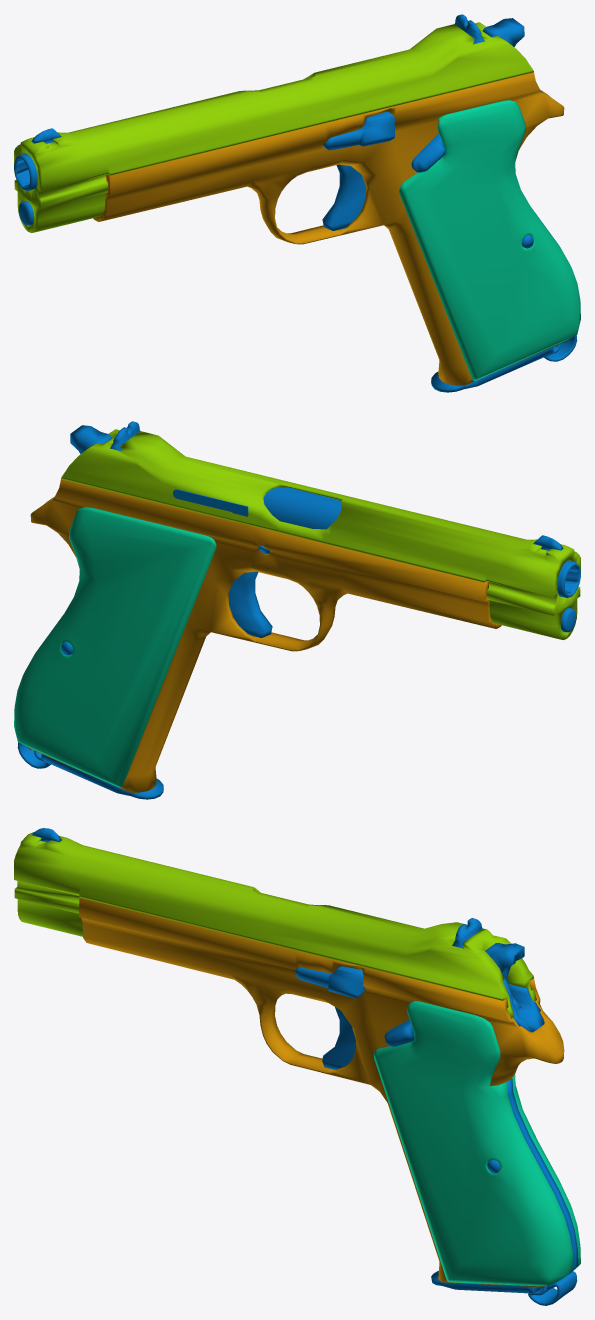
Rendered from SIGp210.fbx.
The picture shows the model from 3 angles, top to bottom: view 1: azimuth 30°, elevation 25°; view 2: azimuth 150°, elevation 25°; view 3: azimuth 330°, elevation 25°; orthographic projection.
Parts seen in each view (by area): view 1: grip, slider, body, triger, safeSlider, magazin, safe, sights, hammer, barrel; view 2: grip, slider, body, bulletBed, triger, magazin, ejector, sights, barrel, hammer; view 3: grip, slider, body, safeSlider, gripMetal, triger, hammerBody, hammer, magazinSpring, magazin, sights.
Boxes of the visible parts, left/top/right/bottom form: grip: left=399, top=100, right=580, bottom=380; slider: left=14, top=22, right=533, bottom=232; body: left=93, top=72, right=565, bottom=385; triger: left=322, top=164, right=366, bottom=230; safeSlider: left=323, top=112, right=395, bottom=150; magazin: left=431, top=347, right=553, bottom=392; safe: left=411, top=133, right=445, bottom=172; sights: left=31, top=14, right=484, bottom=143; hammer: left=483, top=18, right=524, bottom=46; barrel: left=14, top=153, right=37, bottom=190; grip: left=14, top=507, right=216, bottom=787; slider: left=61, top=429, right=580, bottom=639; body: left=29, top=479, right=501, bottom=792; bulletBed: left=263, top=487, right=341, bottom=529; triger: left=228, top=571, right=272, bottom=637; magazin: left=41, top=754, right=163, bottom=799; ejector: left=173, top=489, right=248, bottom=516; sights: left=110, top=421, right=563, bottom=550; barrel: left=557, top=560, right=580, bottom=597; hammer: left=70, top=425, right=111, bottom=453; grip: left=373, top=1001, right=580, bottom=1286; slider: left=14, top=832, right=536, bottom=1018; body: left=79, top=897, right=564, bottom=1287; safeSlider: left=295, top=966, right=364, bottom=998; gripMetal: left=506, top=1078, right=578, bottom=1273; triger: left=322, top=1007, right=355, bottom=1069; hammerBody: left=503, top=979, right=544, bottom=1032; hammer: left=485, top=943, right=524, bottom=1011; magazinSpring: left=528, top=1271, right=577, bottom=1305; magazin: left=431, top=1270, right=542, bottom=1293; sights: left=31, top=828, right=482, bottom=948.
Size of the model in its own units: 217 by 135 by 25.1.
